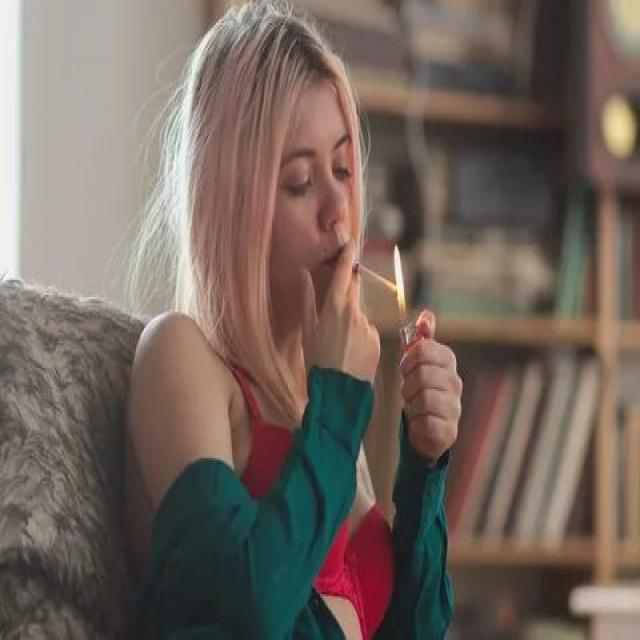cigarette: (345, 256, 404, 306)
